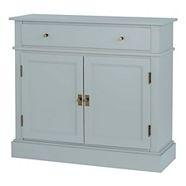cabinet_door: (86, 59, 150, 146), (20, 55, 82, 140), (20, 23, 151, 51)
handle: (85, 94, 91, 109), (117, 34, 125, 43), (78, 95, 83, 109), (42, 32, 49, 39)
